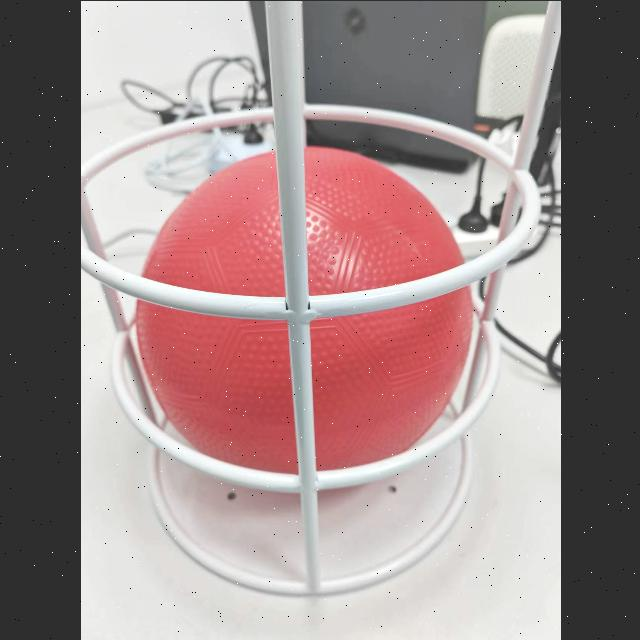R: (126, 140, 478, 488)
S: (80, 0, 560, 598)
